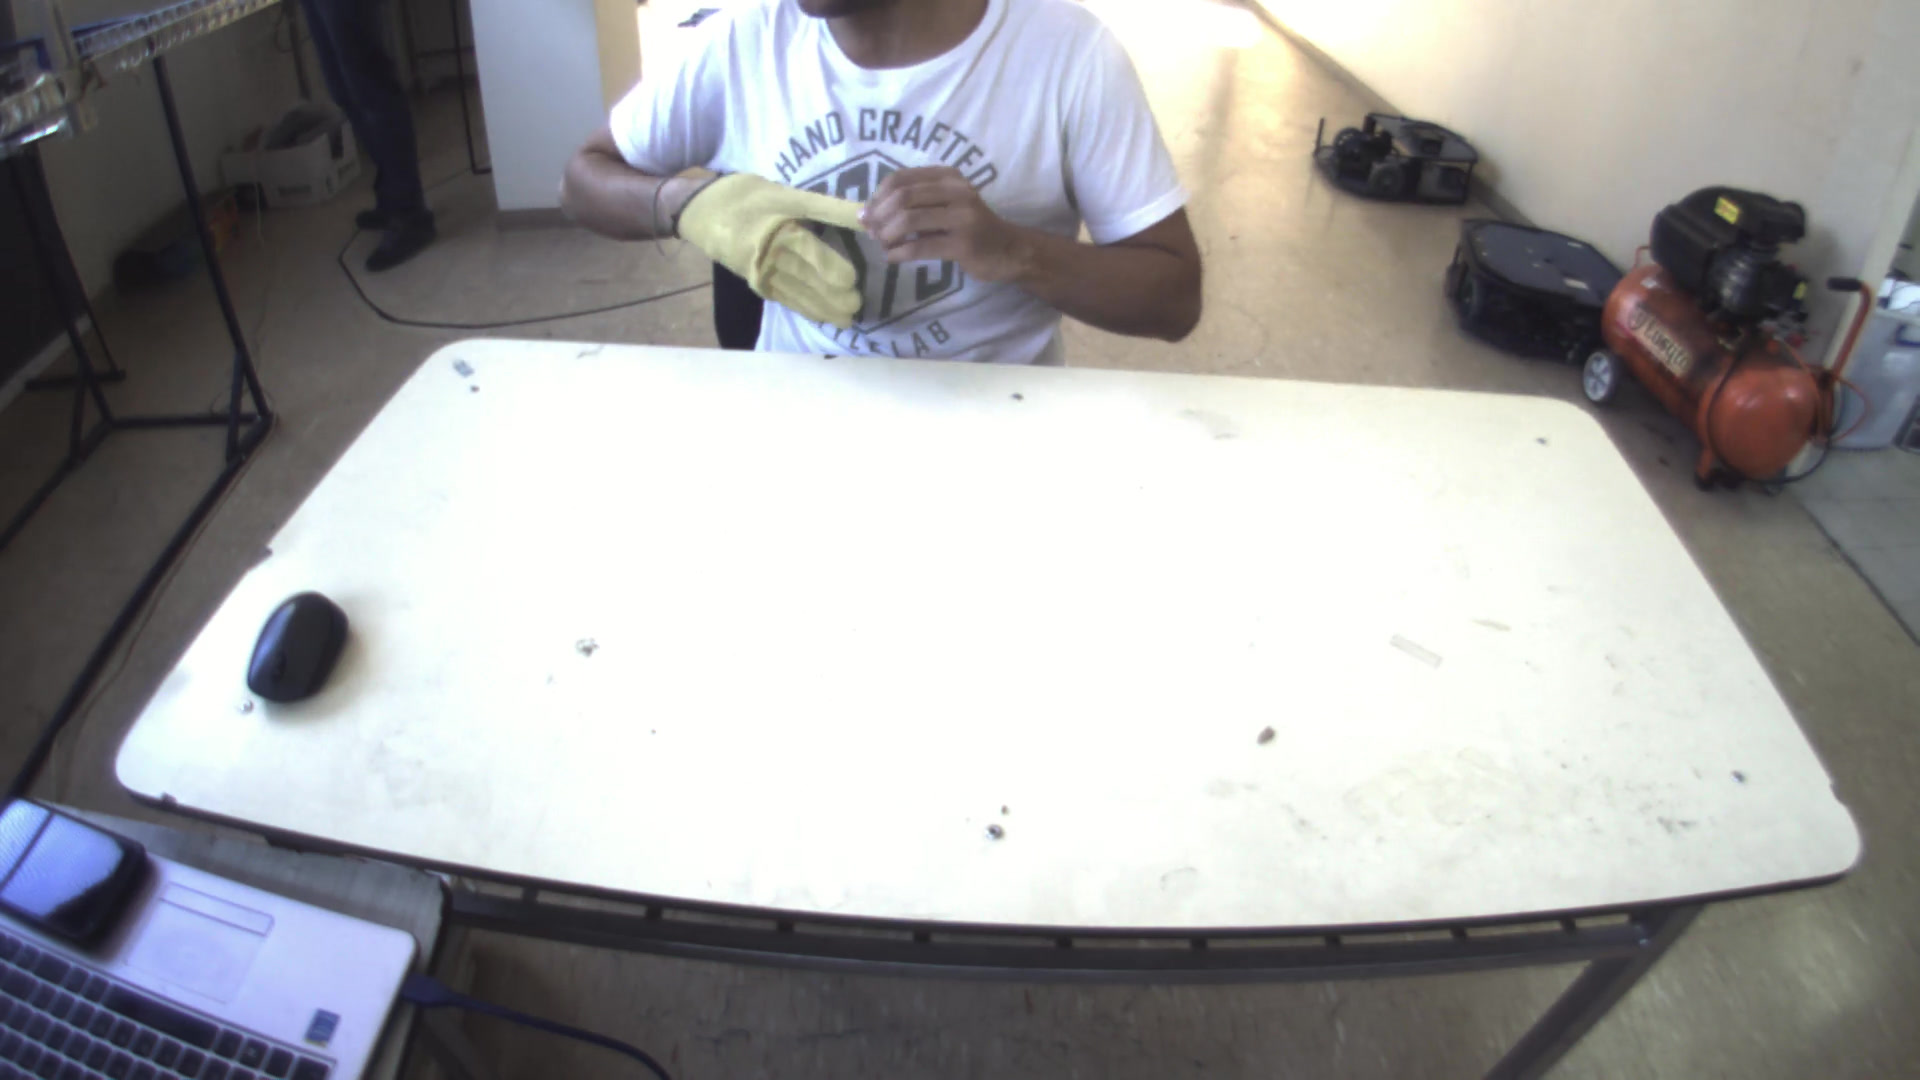hand: (678, 161, 876, 324), (852, 154, 1009, 276)
